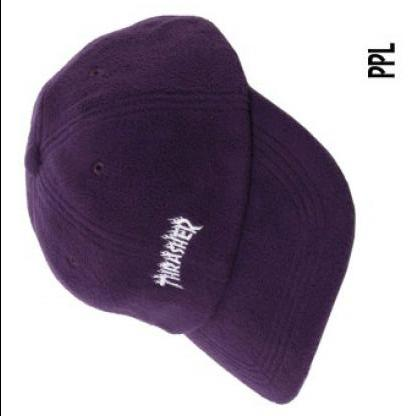cap: (18, 9, 355, 406)
